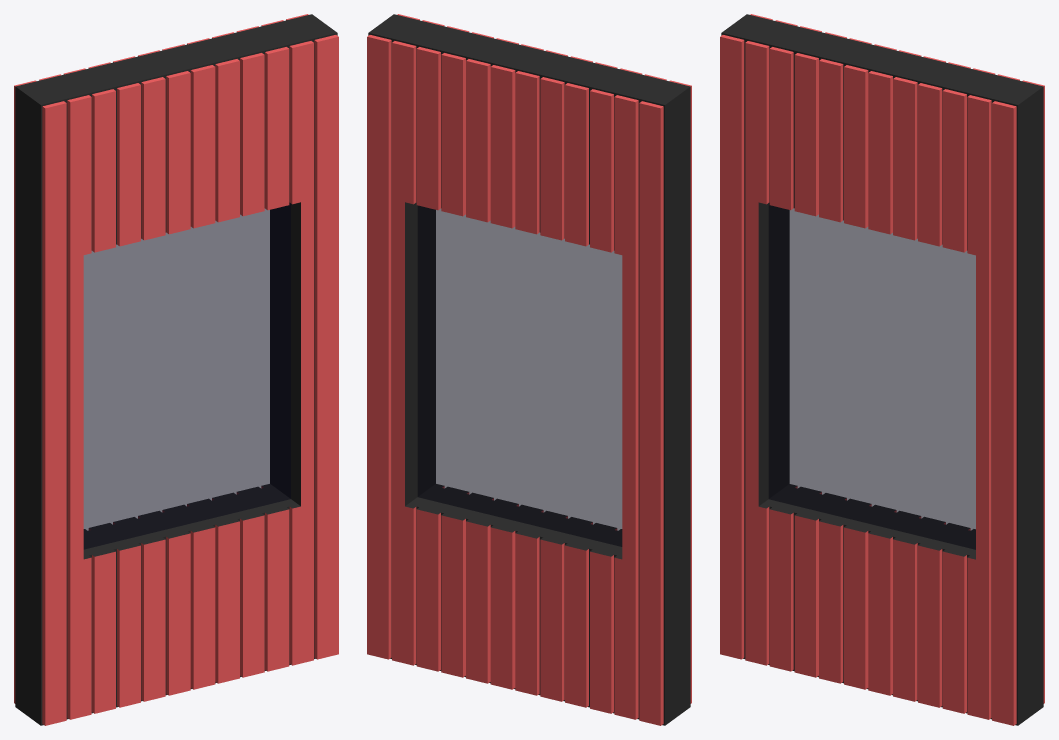
The model's file is PinkBoardsWindow.glb.
3 renders of one model, left to right at view 1: azimuth 30°, elevation 25°; view 2: azimuth 150°, elevation 25°; view 3: azimuth 330°, elevation 25°, orthographic.
Parts seen in each view (by area): view 1: wall_pinkBoards_window; view 2: wall_pinkBoards_window; view 3: wall_pinkBoards_window.
Part boxes in pixels (bbox=[...]): wall_pinkBoards_window: bbox=[14, 14, 338, 725]; wall_pinkBoards_window: bbox=[367, 14, 691, 725]; wall_pinkBoards_window: bbox=[720, 14, 1044, 725].
Size of what is drawn, in the model's own units: 2 by 4 by 0.3631.
Materials: 2 (2 with a texture image).
